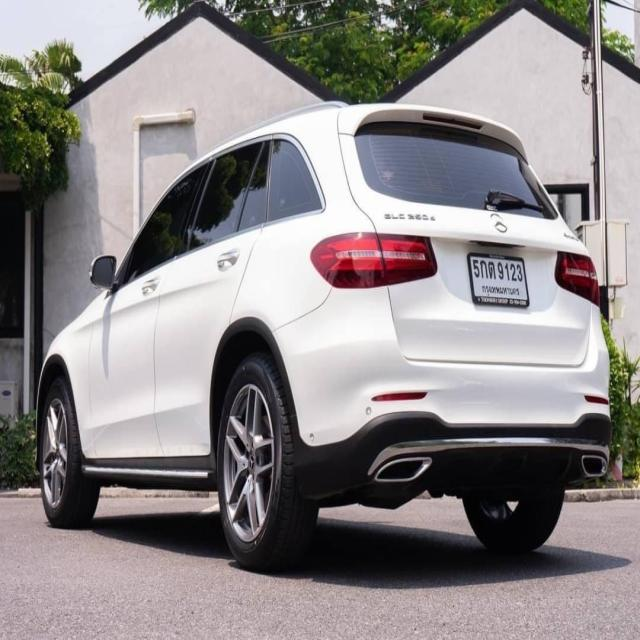license_plate: (466, 252, 532, 308)
